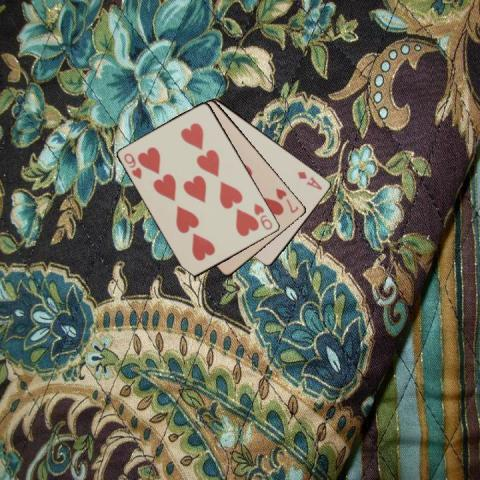7h: (273, 185, 300, 215)
9h: (251, 200, 274, 231), (122, 150, 144, 181)
Ad: (295, 169, 323, 191)
